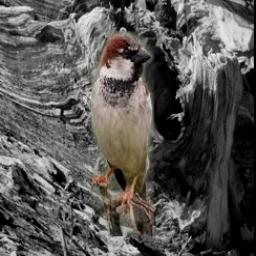Sparrow: (91, 31, 154, 236)
